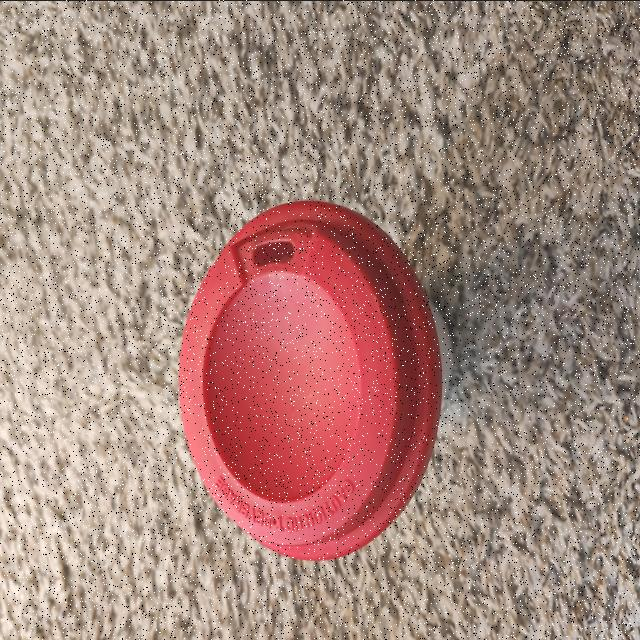mug: (197, 158, 459, 588)
